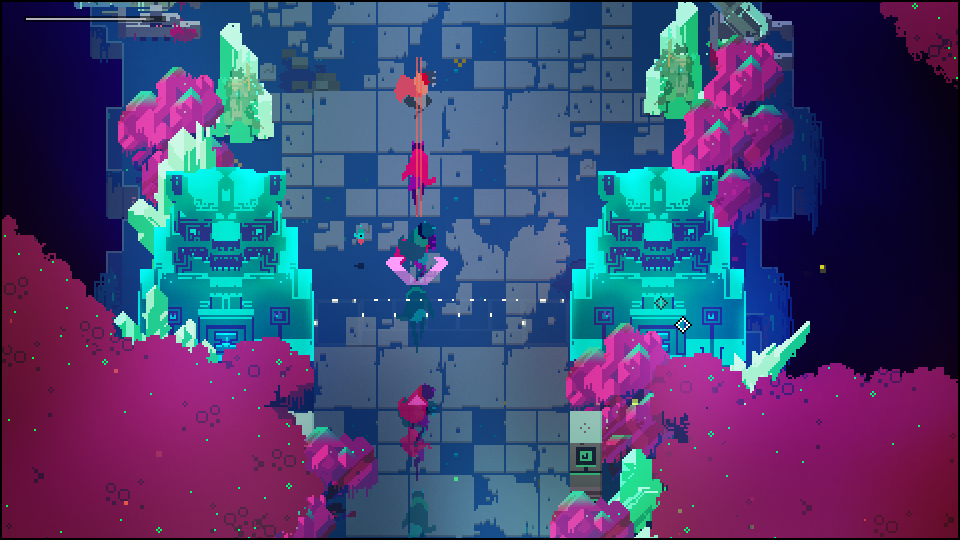player: (393, 64, 438, 114)
